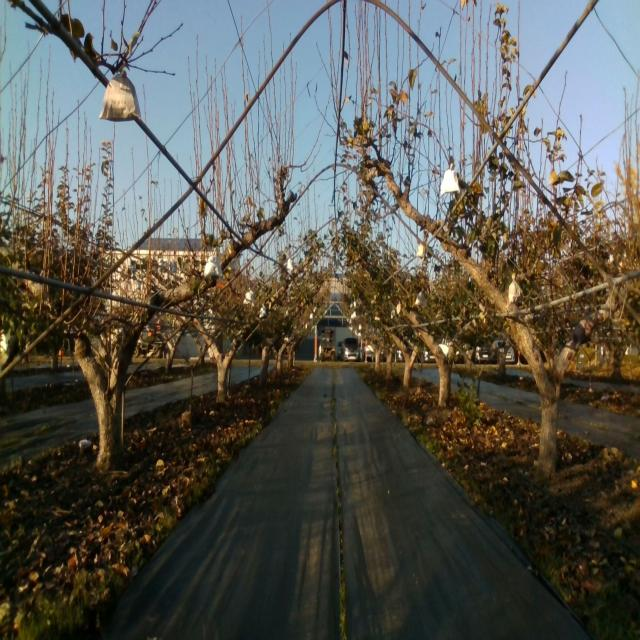pearbags: (99, 66, 142, 122), (440, 161, 458, 197), (508, 272, 521, 303), (204, 254, 220, 279), (243, 288, 255, 306)
